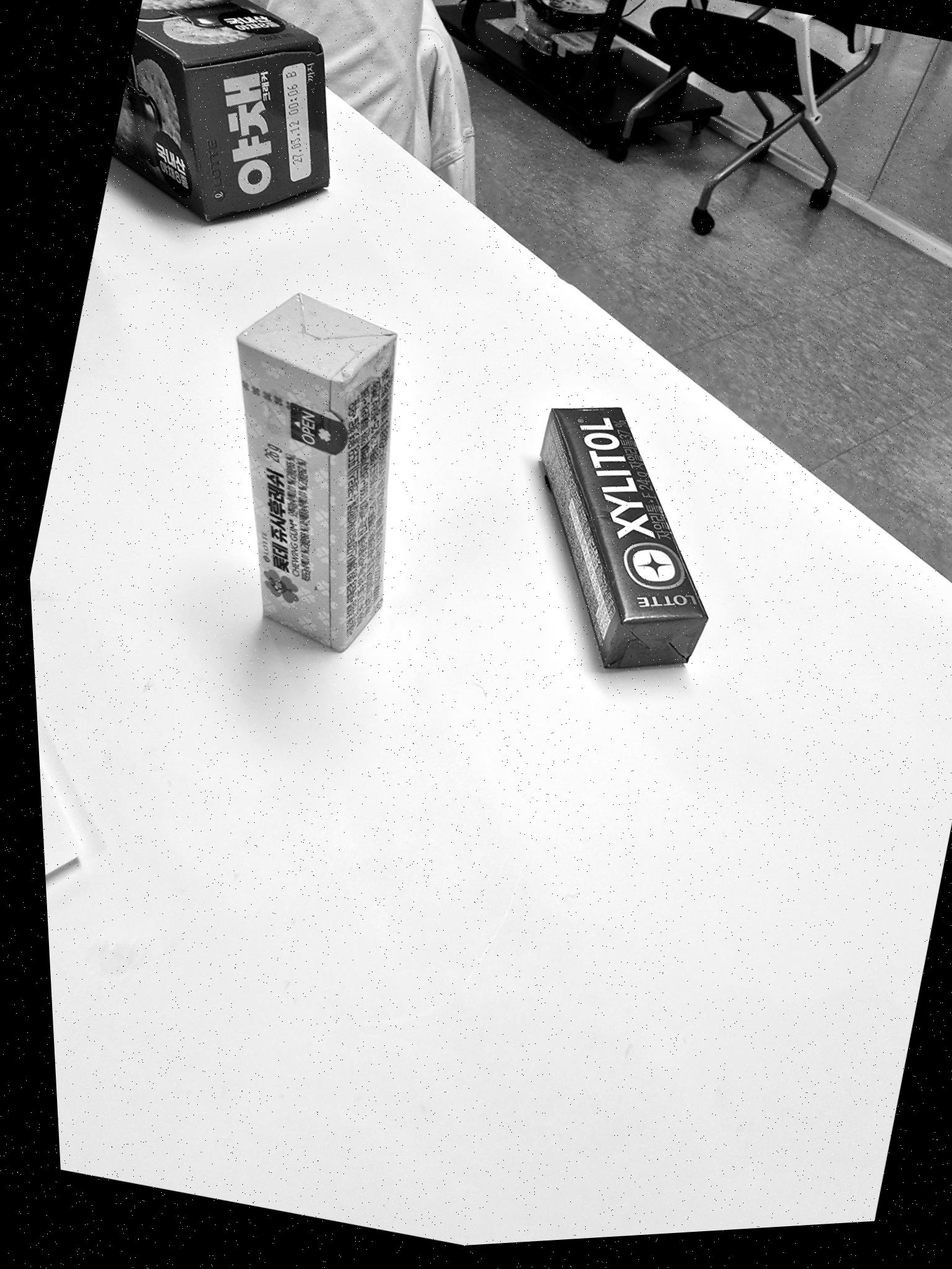gum_green: (541, 407, 707, 669)
gum_yellow: (237, 294, 395, 651)
